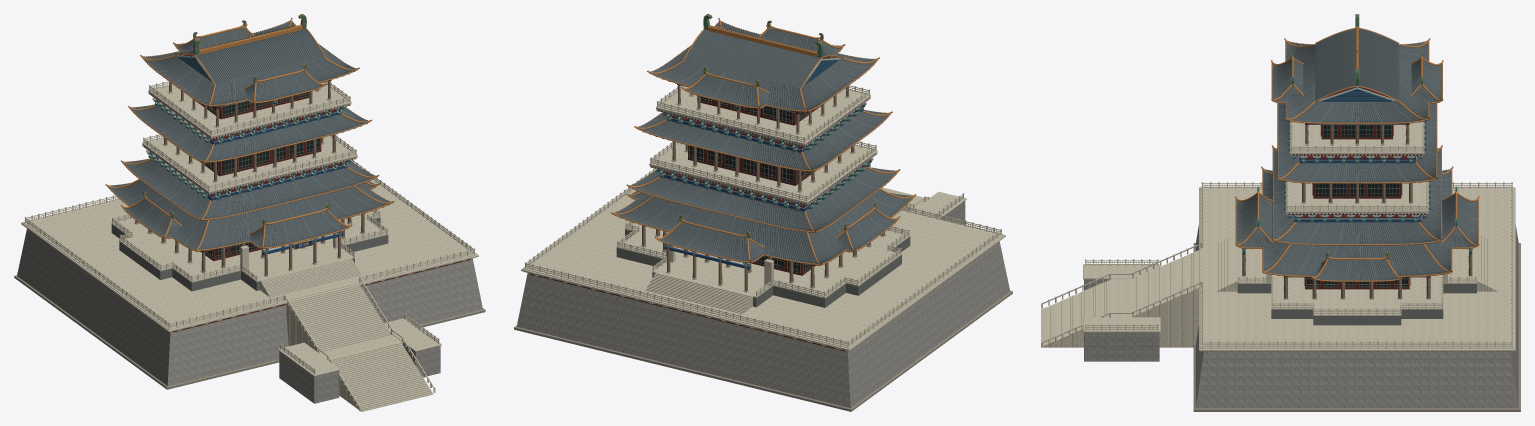
Rendered from guanque-tower.glb.
The picture shows the model from 3 angles, left to right: view 1: azimuth 30°, elevation 25°; view 2: azimuth 150°, elevation 25°; view 3: azimuth 270°, elevation 25°; orthographic projection. The views are drawn at different scales.
Parts seen in each view (by area): view 1: 石材 · 暖白石灰石, 筒瓦 · 灰陶细纹, 台基 · 灰砖包砌, 瓦口与脊饰 · 赭金琉璃, 立柱 · 暖褐灰朱柱, 深朱漆 · 门窗框, 彩画 · 青绿底色, 彩画 · 白色线脚, 首层须弥座 · 灰石, 石材 · 基脚阴线, 筒瓦 · 灰陶浅色, 门窗 · 深色背板 (+1 smaller); view 2: 石材 · 暖白石灰石, 筒瓦 · 灰陶细纹, 台基 · 灰砖包砌, 瓦口与脊饰 · 赭金琉璃, 立柱 · 暖褐灰朱柱, 深朱漆 · 门窗框, 石材 · 基脚阴线, 彩画 · 青绿底色, 彩画 · 白色线脚, 首层须弥座 · 灰石, 筒瓦 · 灰陶浅色, 门窗 · 深色背板 (+1 smaller); view 3: 石材 · 暖白石灰石, 筒瓦 · 灰陶细纹, 台基 · 灰砖包砌, 瓦口与脊饰 · 赭金琉璃, 石材 · 基脚阴线, 首层须弥座 · 灰石, 深朱漆 · 门窗框, 立柱 · 暖褐灰朱柱, 筒瓦 · 灰陶浅色, 门窗 · 深色背板, 彩画 · 群青底色, 彩画 · 白色线脚 (+1 smaller).
Part boxes in pixels (x1,y1,x2,y2): 石材 · 暖白石灰石: (21,81,478,411); 筒瓦 · 灰陶细纹: (109,21,390,249); 台基 · 灰砖包砌: (17,229,482,403); 瓦口与脊饰 · 赭金琉璃: (105,14,394,251); 立柱 · 暖褐灰朱柱: (135,81,364,275); 深朱漆 · 门窗框: (143,54,470,332); 彩画 · 青绿底色: (147,55,351,258); 彩画 · 白色线脚: (142,55,357,251); 首层须弥座 · 灰石: (111,217,388,291); 石材 · 基脚阴线: (14,89,485,389); 筒瓦 · 灰陶浅色: (120,30,379,246); 门窗 · 深色背板: (205,92,319,258); 石材 · 暖白石灰石: (521,85,1005,350); 筒瓦 · 灰陶细纹: (614,22,912,263); 台基 · 灰砖包砌: (516,201,1010,407); 瓦口与脊饰 · 赭金琉璃: (610,14,916,265); 立柱 · 暖褐灰朱柱: (642,85,884,291); 深朱漆 · 门窗框: (529,56,876,351); 石材 · 基脚阴线: (514,94,1012,411); 彩画 · 青绿底色: (656,58,871,273); 彩画 · 白色线脚: (649,58,877,265); 首层须弥座 · 灰石: (616,229,910,307); 筒瓦 · 灰陶浅色: (625,28,901,262); 门窗 · 深色背板: (689,96,810,272); 石材 · 暖白石灰石: (1041,121,1515,351); 筒瓦 · 灰陶细纹: (1236,29,1478,280); 台基 · 灰砖包砌: (1084,225,1518,408); 瓦口与脊饰 · 赭金琉璃: (1235,14,1479,281); 石材 · 基脚阴线: (1193,133,1520,411); 首层须弥座 · 灰石: (1237,284,1476,325); 深朱漆 · 门窗框: (1284,87,1430,289); 立柱 · 暖褐灰朱柱: (1242,125,1472,298); 筒瓦 · 灰陶浅色: (1236,43,1478,280); 门窗 · 深色背板: (1306,125,1407,286); 彩画 · 群青底色: (1243,87,1471,276); 彩画 · 白色线脚: (1241,87,1473,276).
Bounding box in the file's own units: 94 × 75.48 × 114.
Materials: 20 (5 with a texture image).
